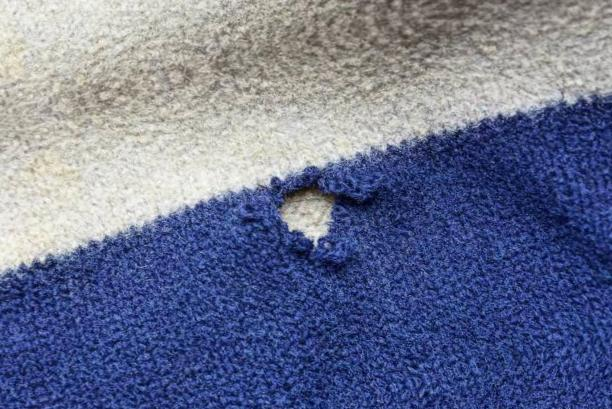hole: (269, 181, 350, 248)
